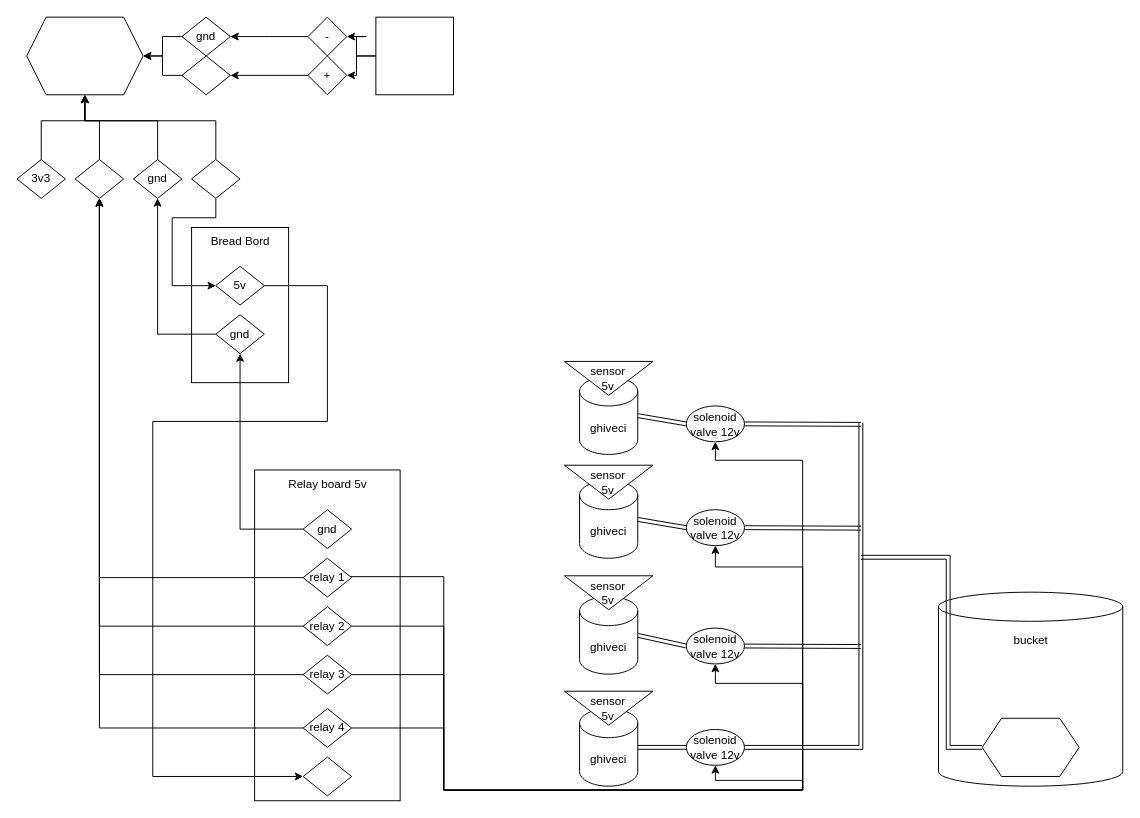
The diagram is 1140 pixels wide and 818 high, and some of its shapes have lost their labels. The centre of each missing label's shape, as x and y in pixels:
"battery pack 4x1.2v ~2000mh" goes at [414,55].
"gpio" goes at [99,178].
"raspberry pi pico" goes at [84,55].
"vbus" goes at [215,178].
"vcc" goes at [327,776].
"vsys" goes at [205,75].
"water pump 5v" goes at [1030,746].
